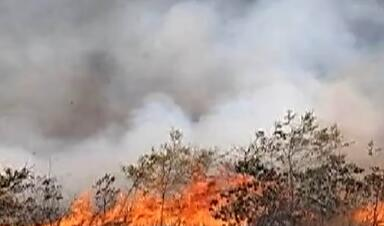fire: (54, 172, 256, 225), (348, 198, 383, 225)
smoke: (0, 1, 384, 175)
